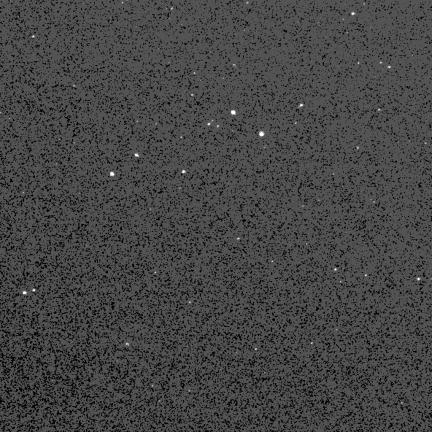blob: (260, 131, 264, 136), (110, 172, 114, 176), (300, 104, 304, 108), (231, 111, 235, 115), (351, 12, 356, 15), (182, 170, 186, 173), (135, 154, 139, 157), (33, 289, 36, 292), (23, 291, 26, 294), (208, 123, 211, 126), (126, 343, 129, 345)
